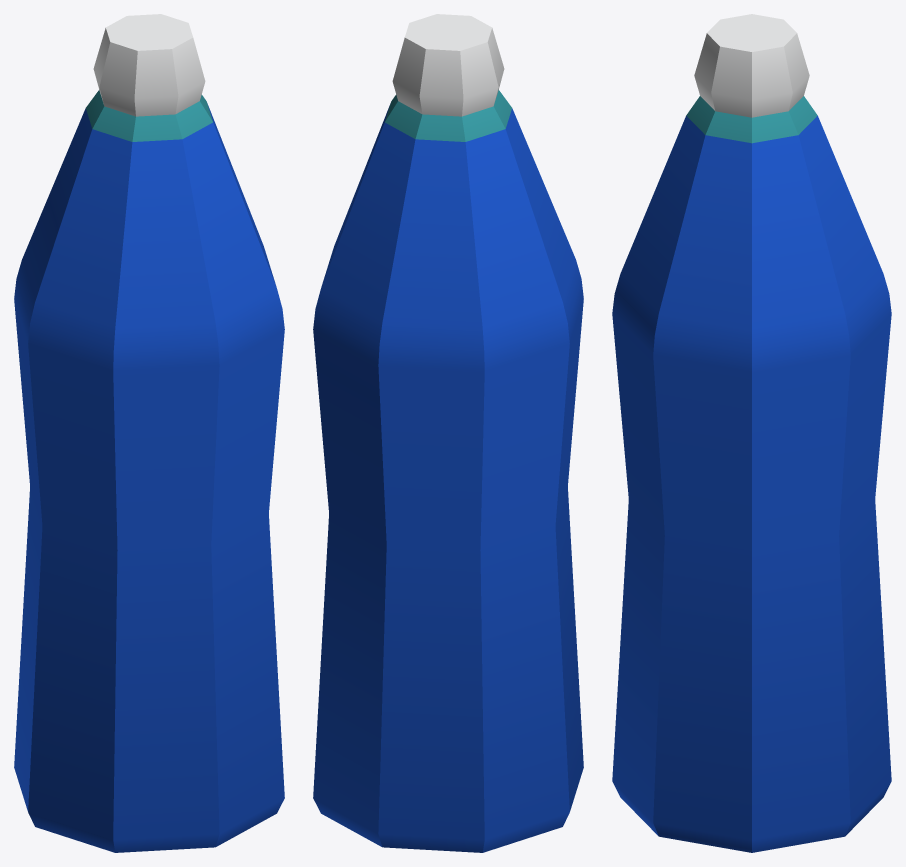
Rendered from EmptyBottele.fbx.
3 views of the same model, side by side, from view 1: azimuth 30°, elevation 25°; view 2: azimuth 150°, elevation 25°; view 3: azimuth 270°, elevation 25° (orthographic).
Parts seen in each view (by area): view 1: Empty bottle; view 2: Empty bottle; view 3: Empty bottle.
Boxes of the visible parts, x1,y1,x2,y2 form: Empty bottle: [14, 14, 284, 852]; Empty bottle: [313, 14, 583, 852]; Empty bottle: [612, 14, 891, 852].
Bounding box in the file's own units: 39.75 × 121 × 39.75.
